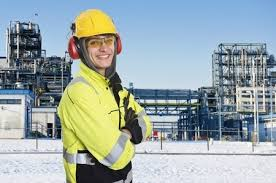Person_wearing_helmet: (65, 5, 124, 55)
